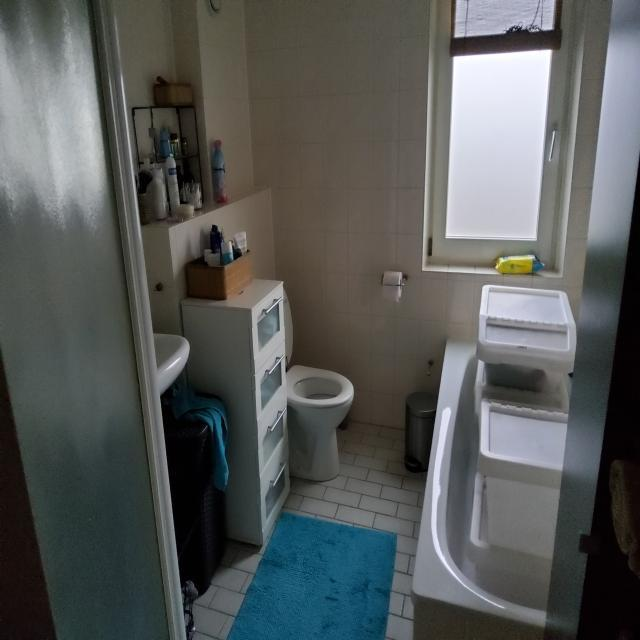bath: (411, 333, 574, 640)
douche: (0, 0, 191, 640)
toilet: (280, 286, 354, 482)
wastafel: (140, 327, 190, 397)
